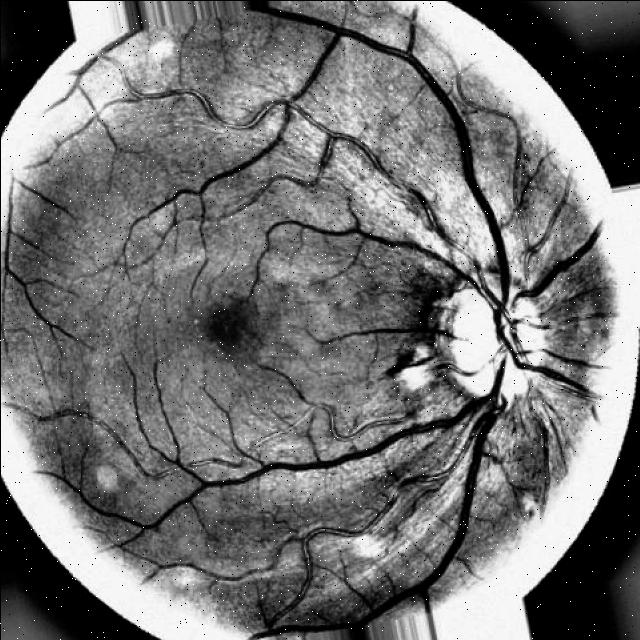Macula: (201, 296, 277, 365)
Nerves: (48, 8, 600, 640), (309, 295, 472, 380)
Optic Disk: (436, 263, 547, 408)
